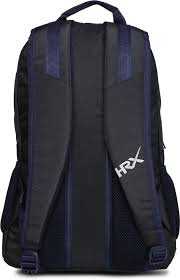backpack: (0, 0, 179, 274)
